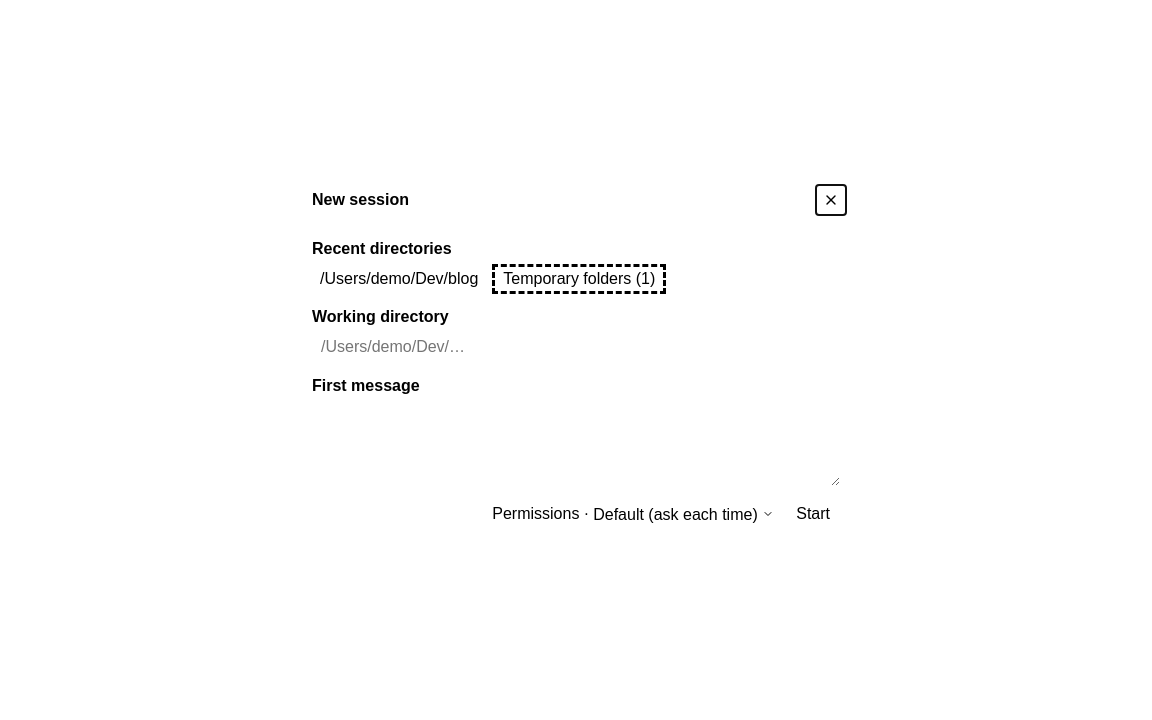
Test: NewSessionDialog › keeps temporary folders out of the way until asked for
This screenshot has width=1152, height=720.
Expected: the button "/Users/demo/Dev/blog" is shown, [312,264,486,294]
Expected: the button "/private/tmp/claude-501/scratch" is not shown
Click the button "Temporary folders (1)".
click(579, 279)  # box [492,264,666,294]
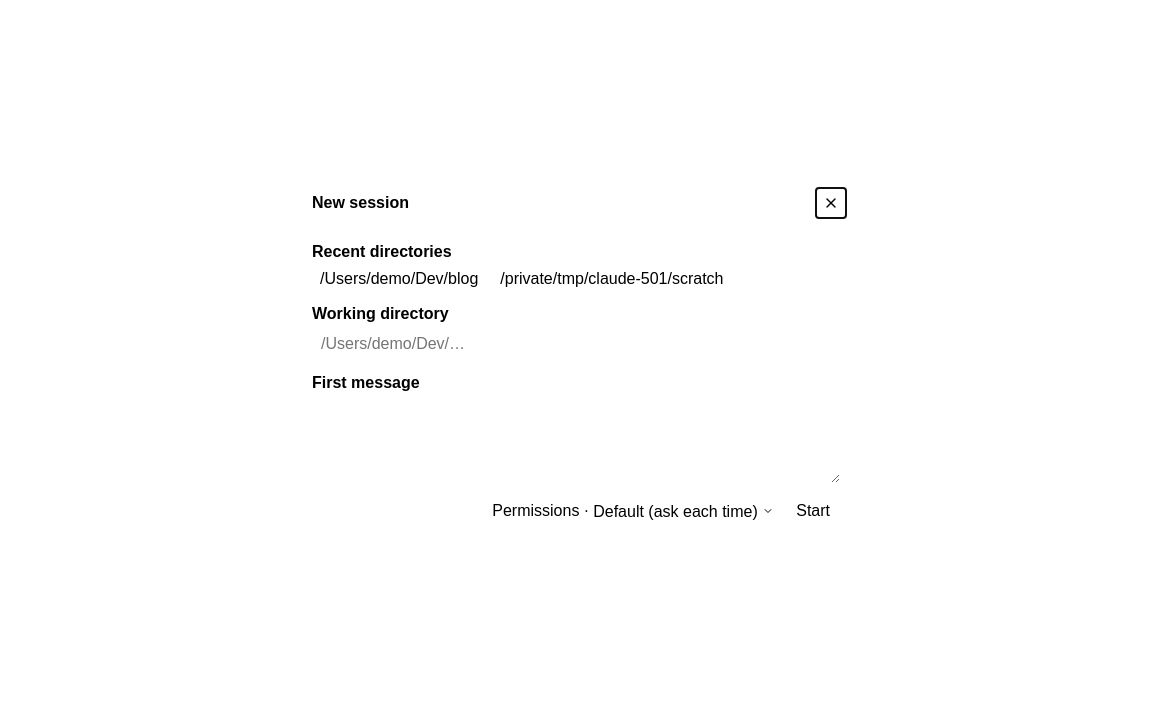
Expected: the button "/private/tmp/claude-501/scratch" is shown, [492,267,732,291]
